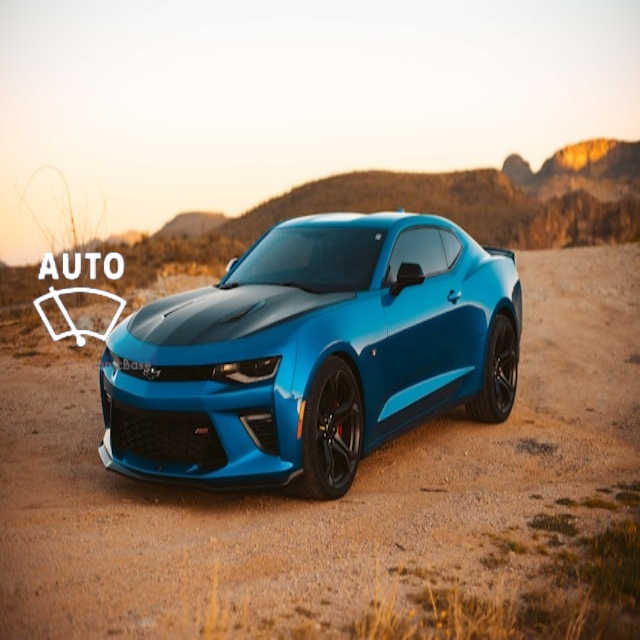symbol: (5, 225, 157, 377)
